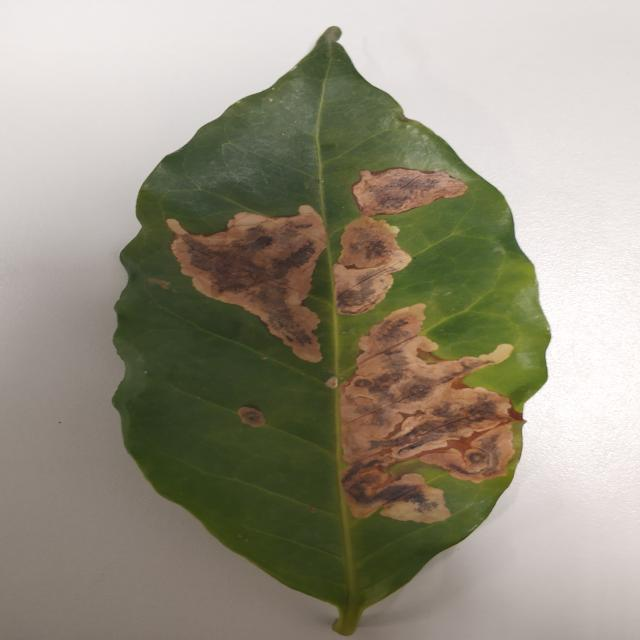Plaga-Minador: (110, 28, 552, 635)
